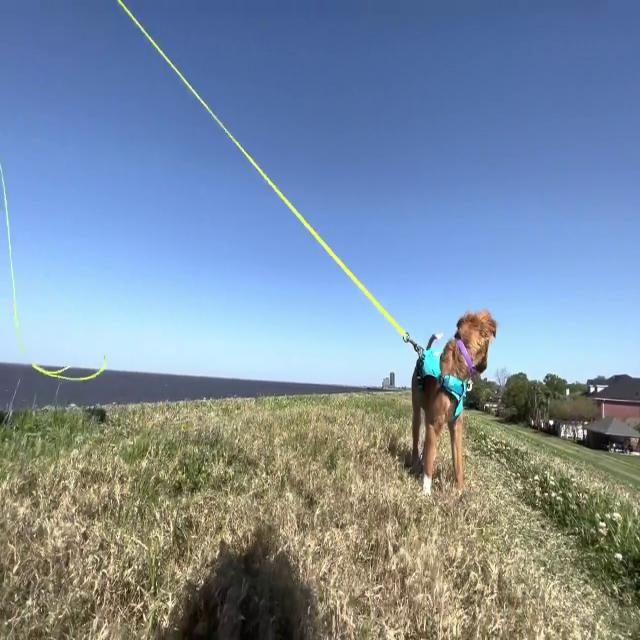Dog: (410, 309, 500, 496)
